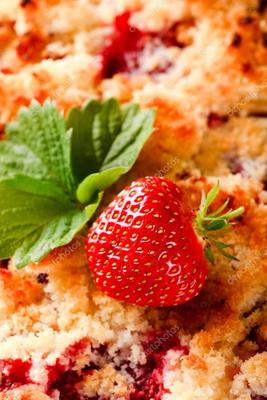strawberry: (0, 0, 267, 400)
